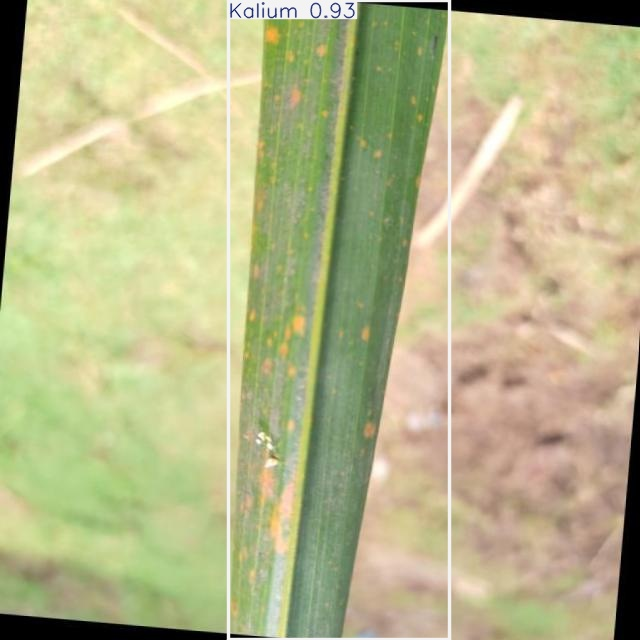Kalium: (229, 0, 449, 640)
